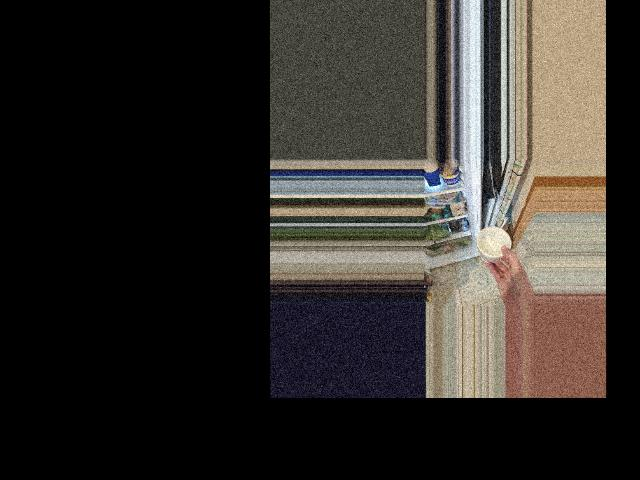cotage: (477, 227, 508, 260)
